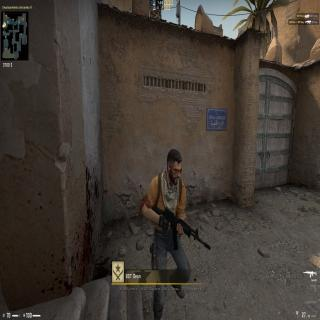T-Head: (165, 149, 183, 187)
